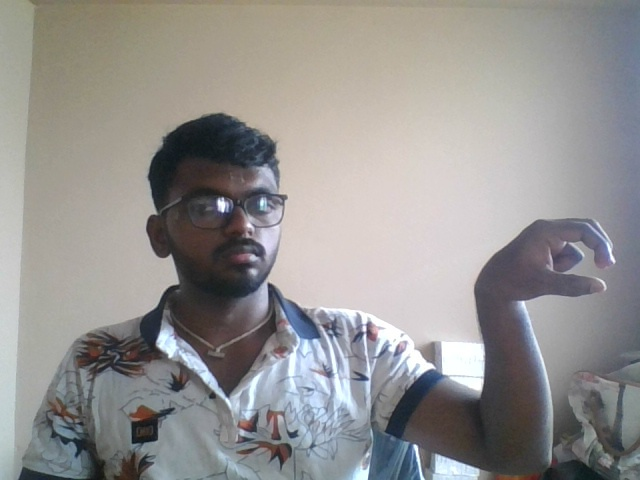No: (460, 201, 633, 353)
